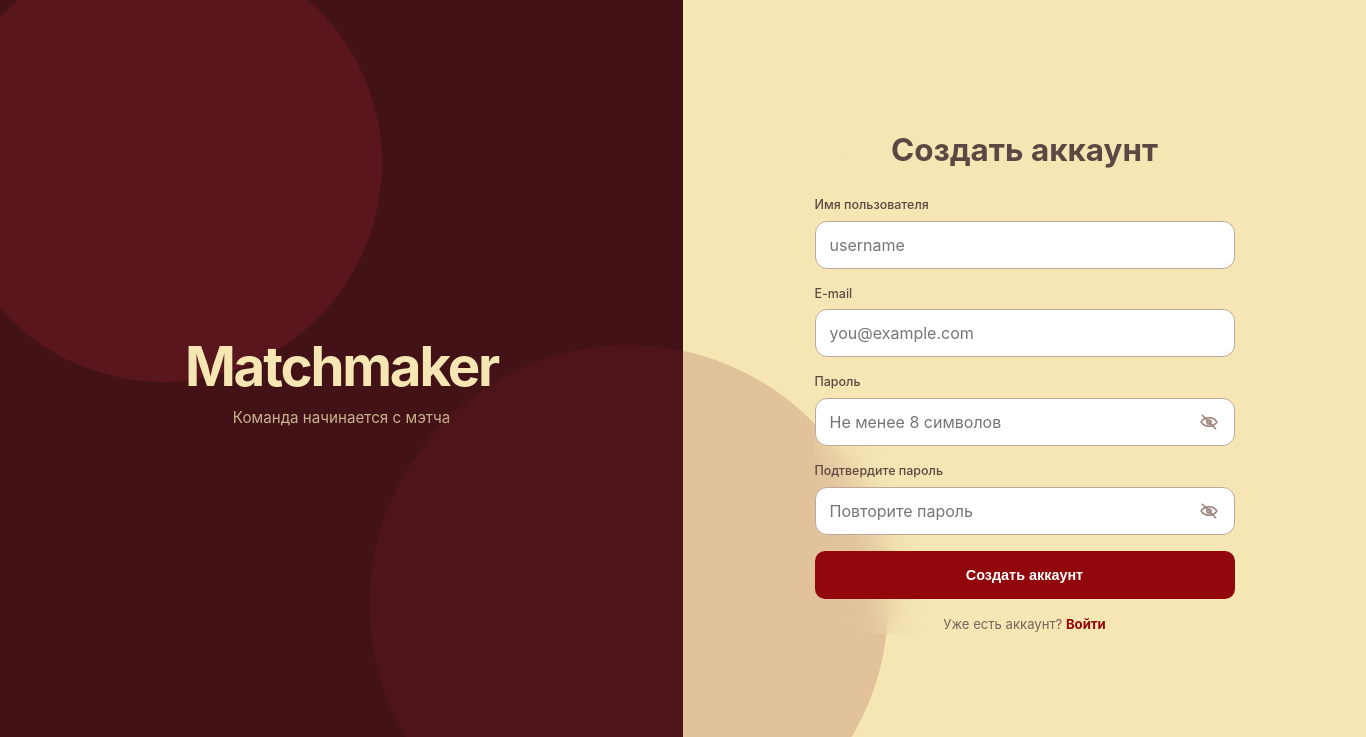
Test: auth pages › registers a user and redirects to feed
In the field labelled "Имя пользователя": (1024, 245) left=814, top=221, right=1234, bottom=269, type "new-user"
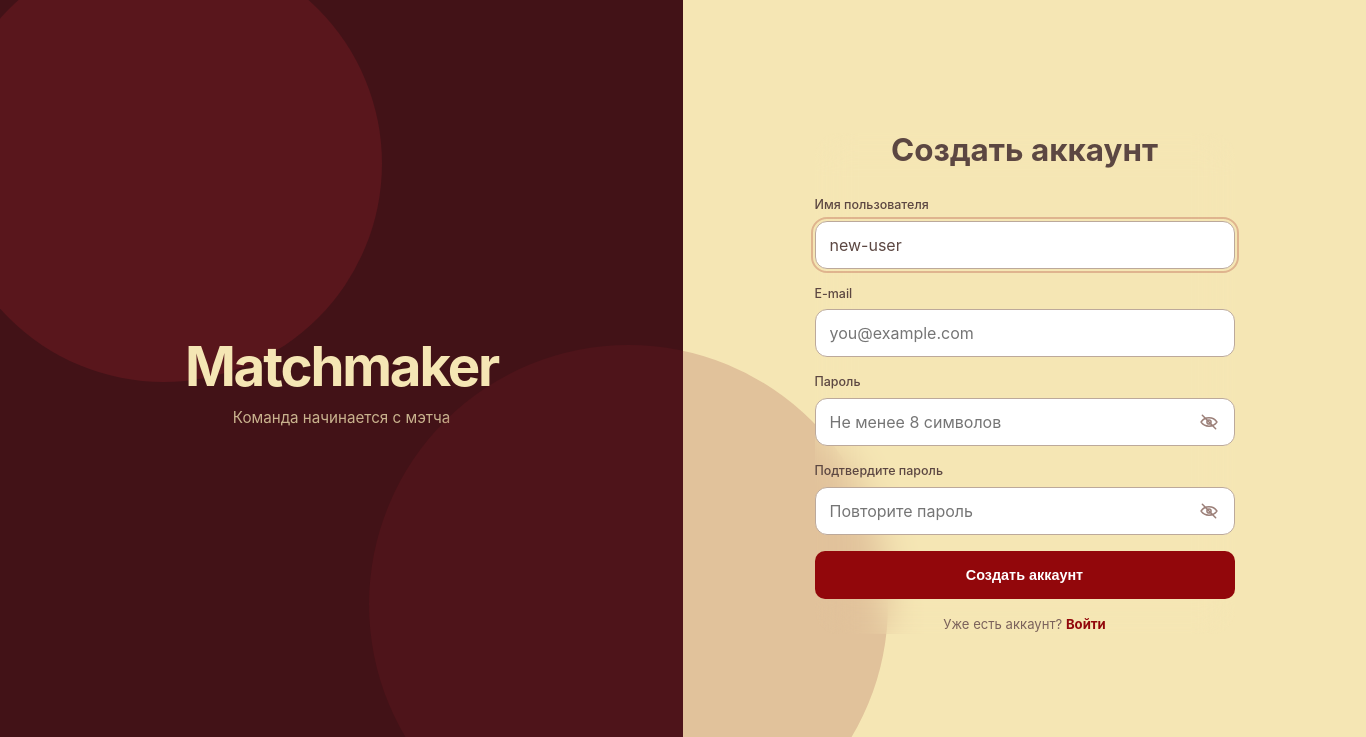
In the field labelled "E-mail": (1024, 333) left=814, top=309, right=1234, bottom=357, type "new@example.com"
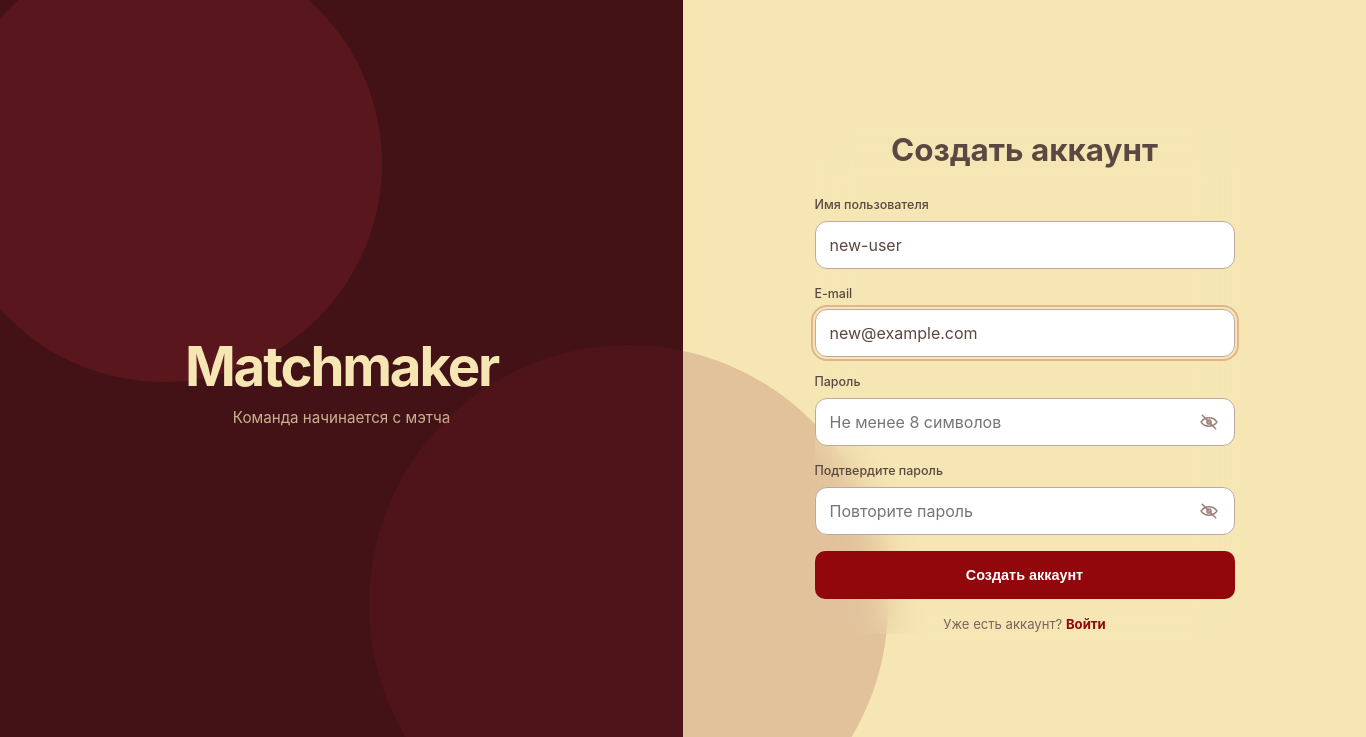
In the password field labelled "Пароль": (1024, 422) left=814, top=398, right=1234, bottom=446, type "password123"
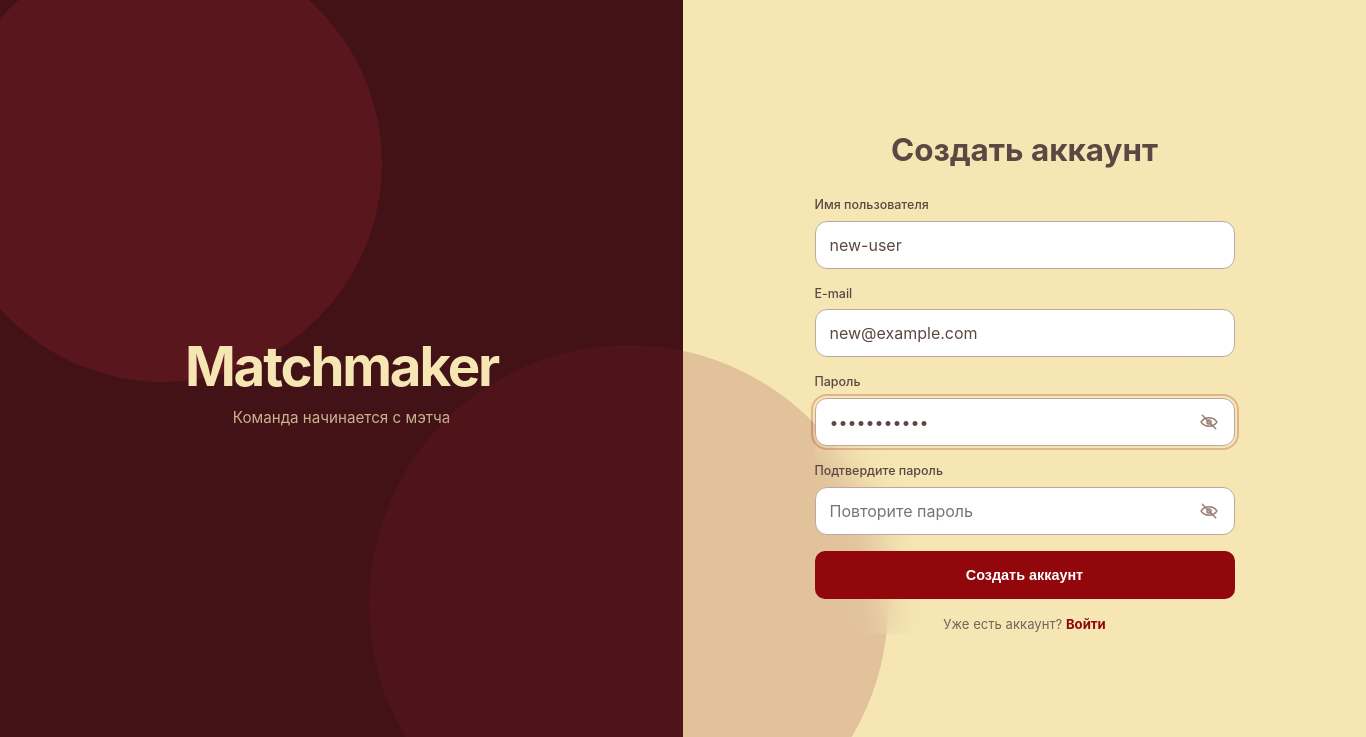
In the password field labelled "Подтвердите пароль": (1024, 511) left=814, top=487, right=1234, bottom=535, type "password123"
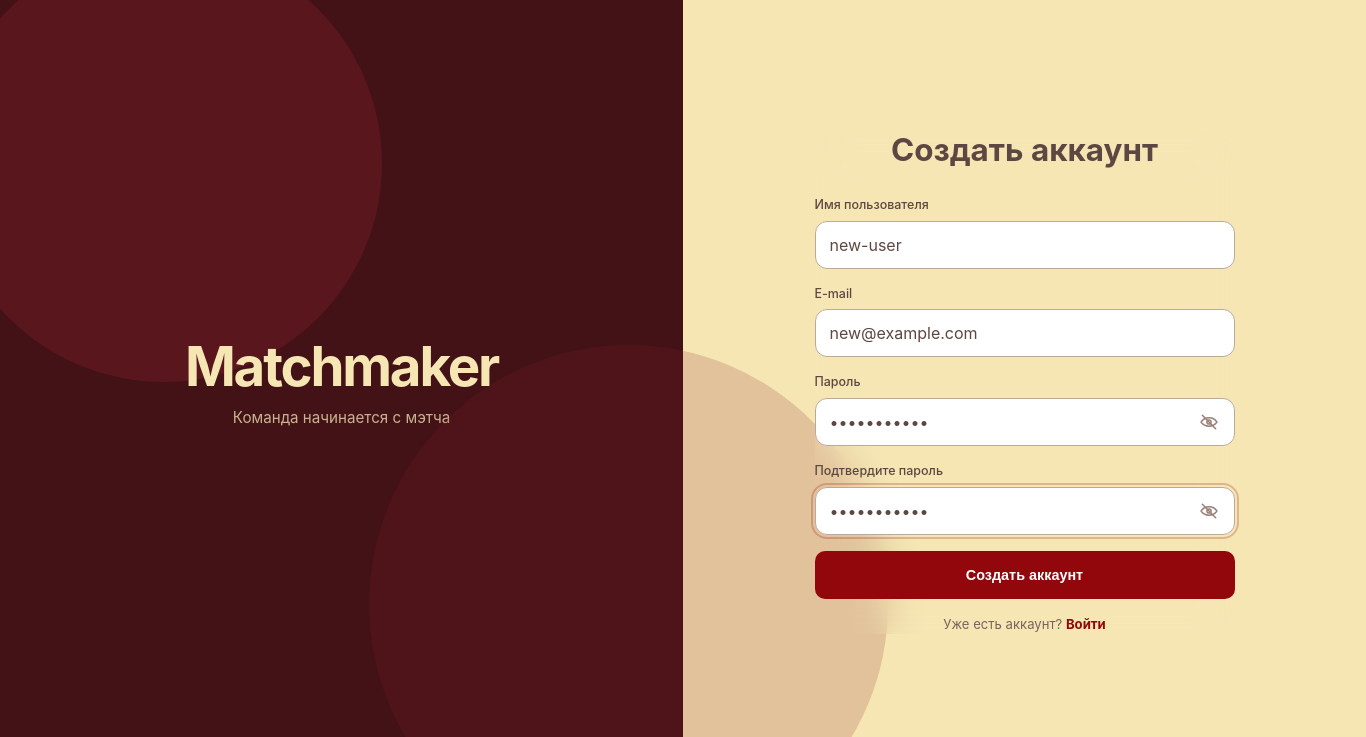
Click the button "Создать аккаунт": (1024, 575) left=814, top=551, right=1234, bottom=599
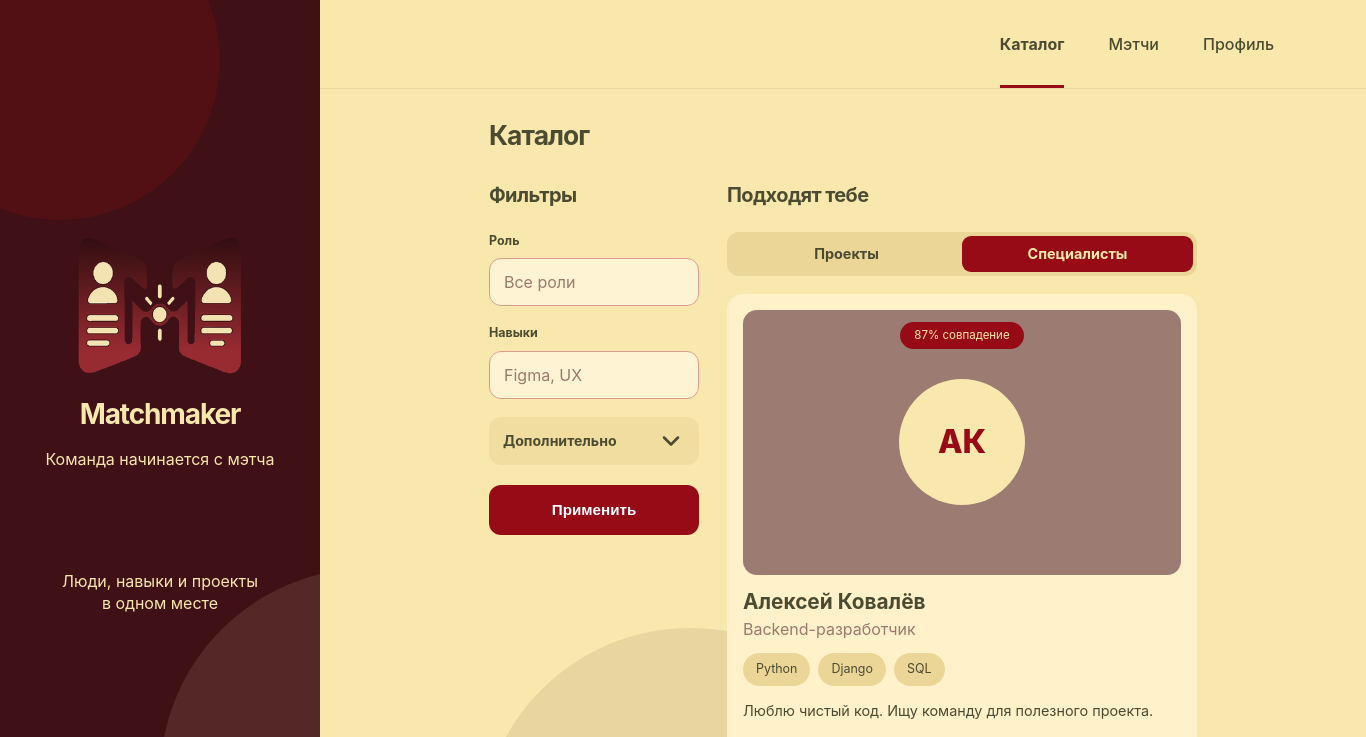
Check: the heading named "Лента" is shown, box left=489, top=121, right=589, bottom=150
